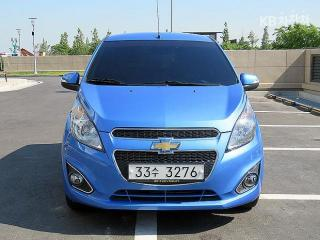2: (174, 165, 182, 179)
3: (143, 166, 152, 178), (135, 166, 143, 178), (165, 164, 172, 177)
6: (189, 166, 198, 178)
7: (182, 166, 190, 178)
plate: (126, 162, 207, 182)
수: (152, 167, 160, 177)
